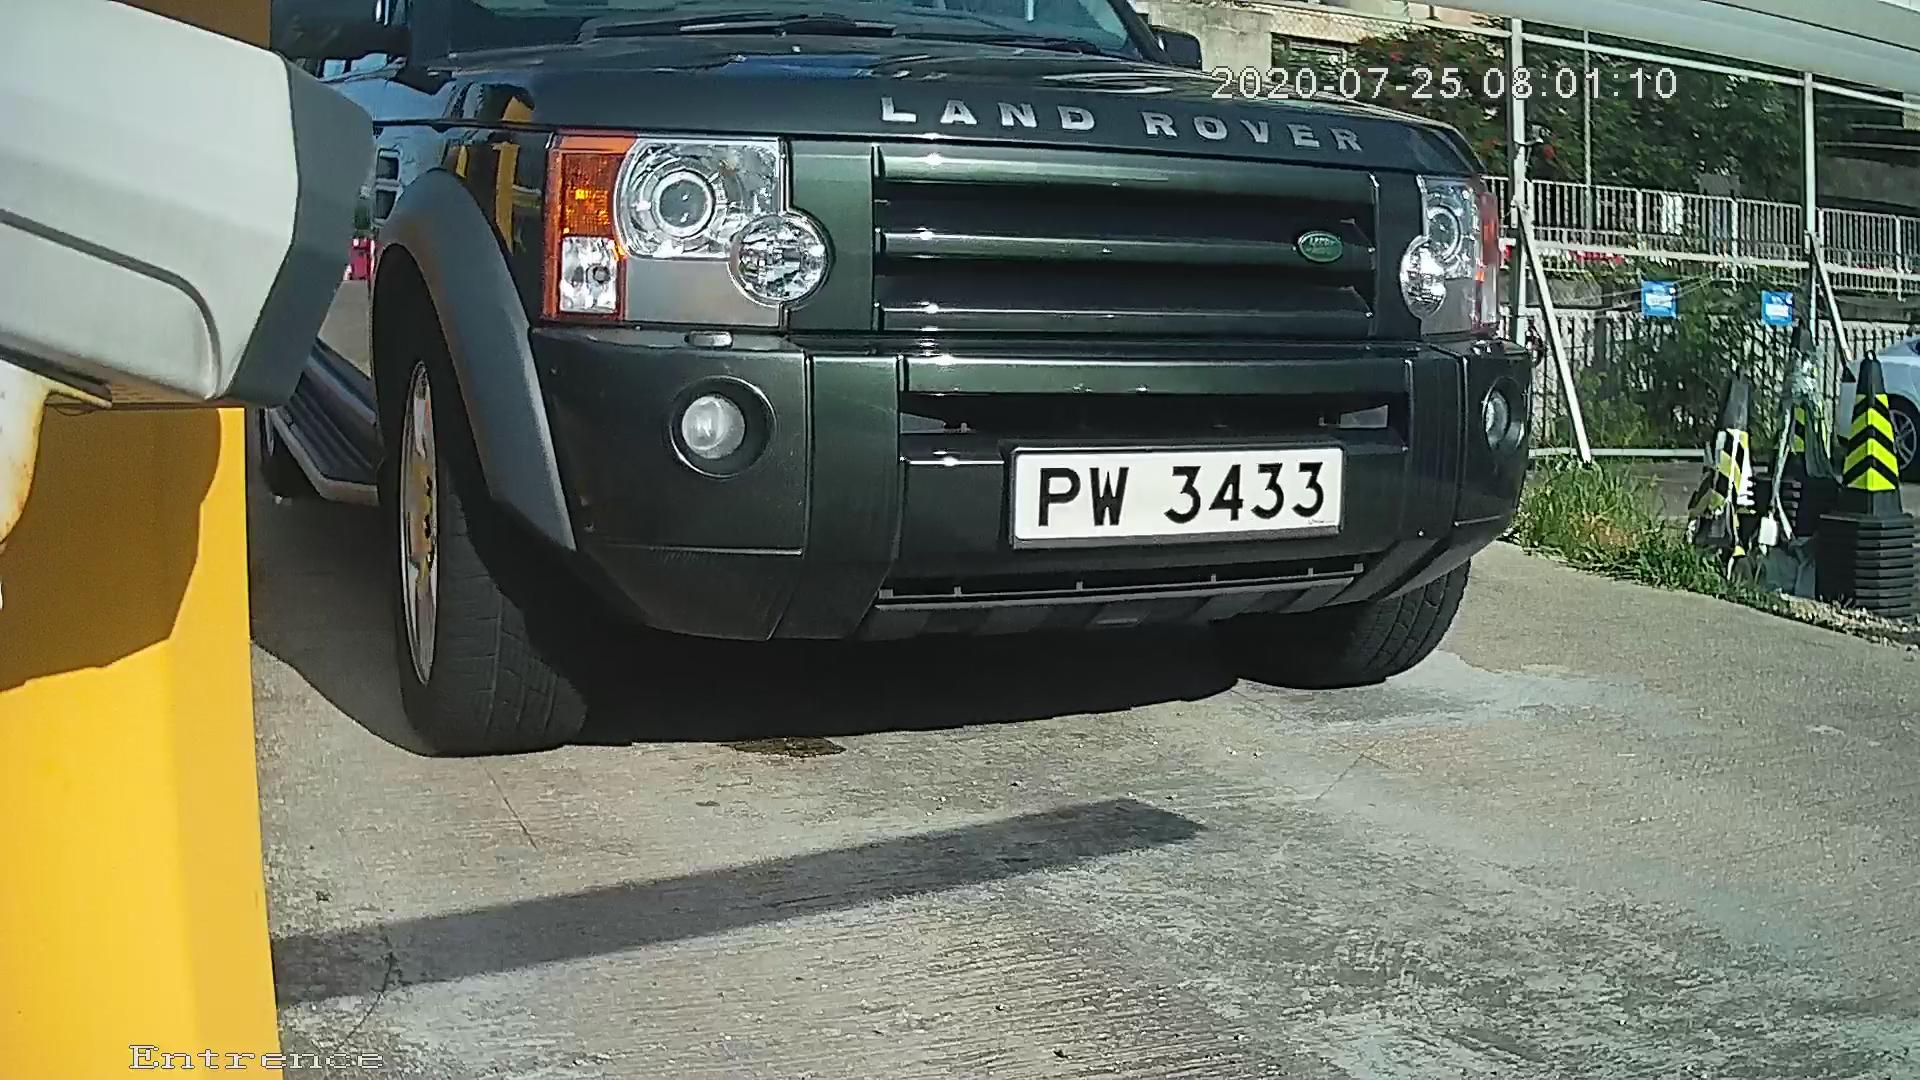Car: (155, 1, 1638, 777)
License Plate: (978, 439, 1372, 555)
